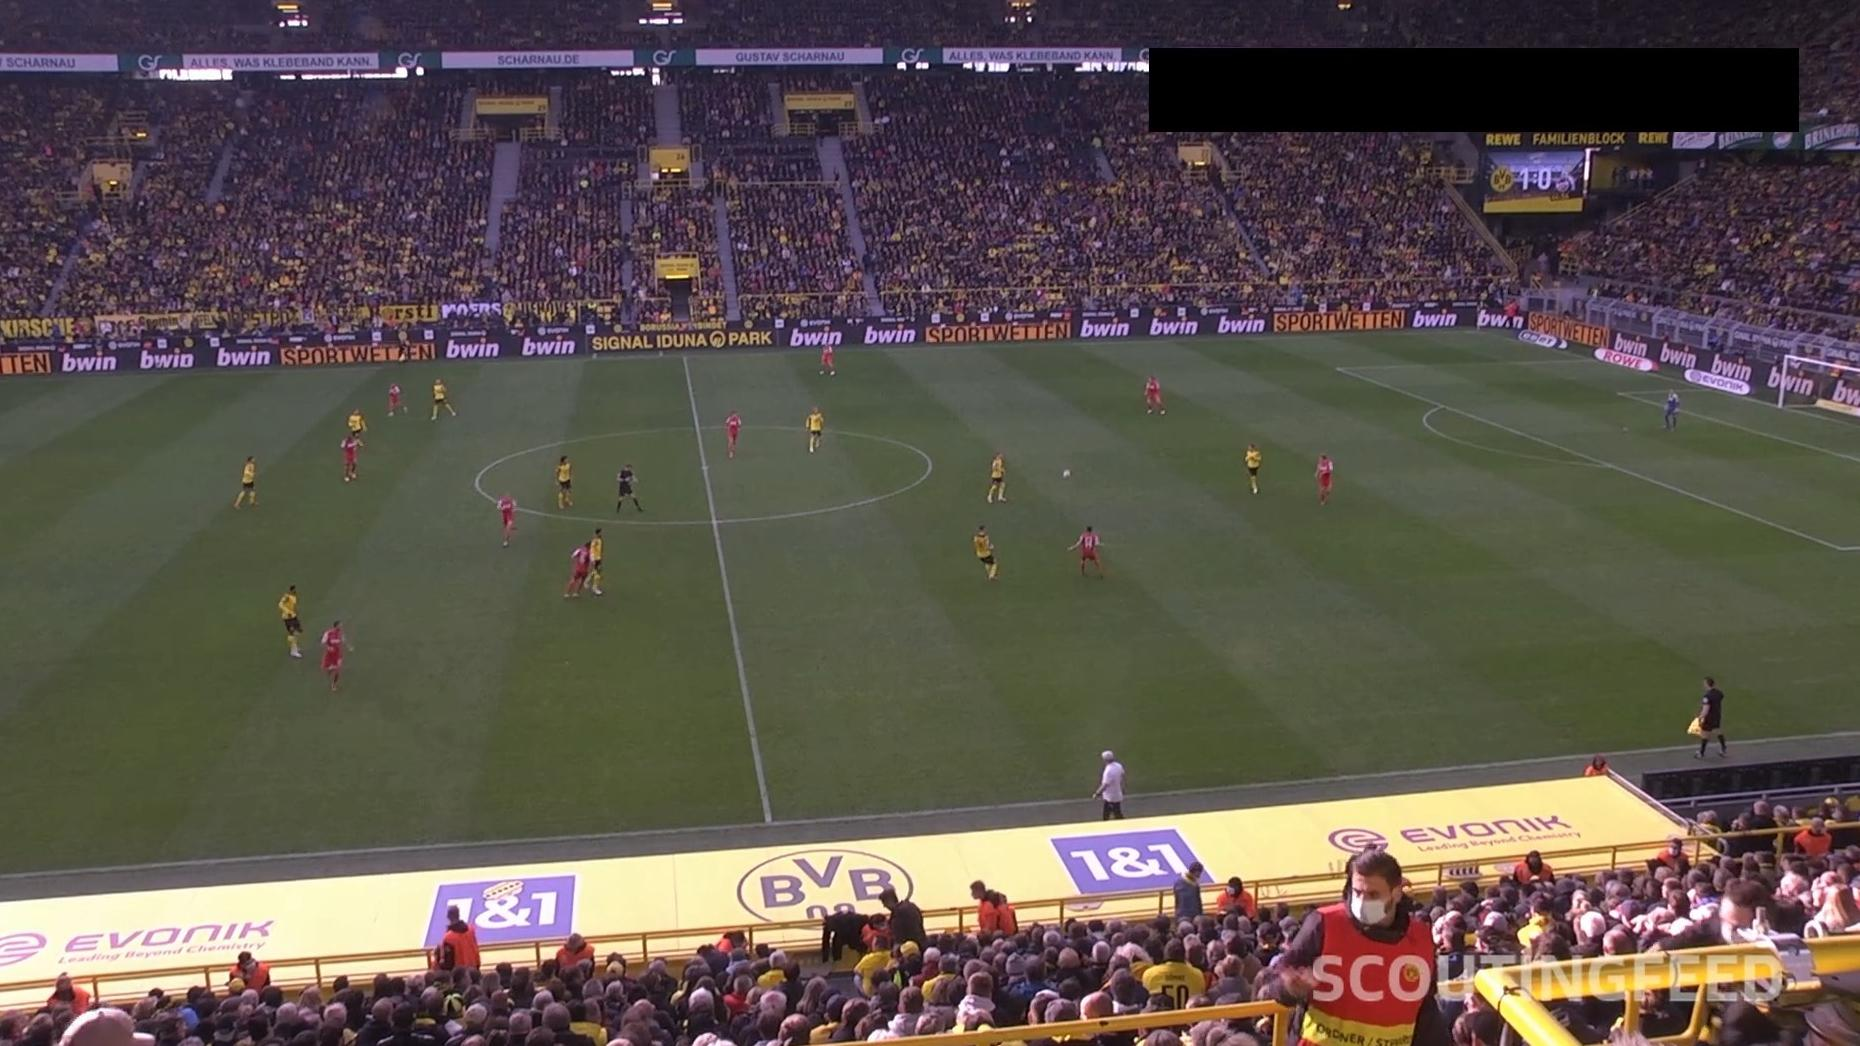ball: (1062, 467, 1072, 479)
